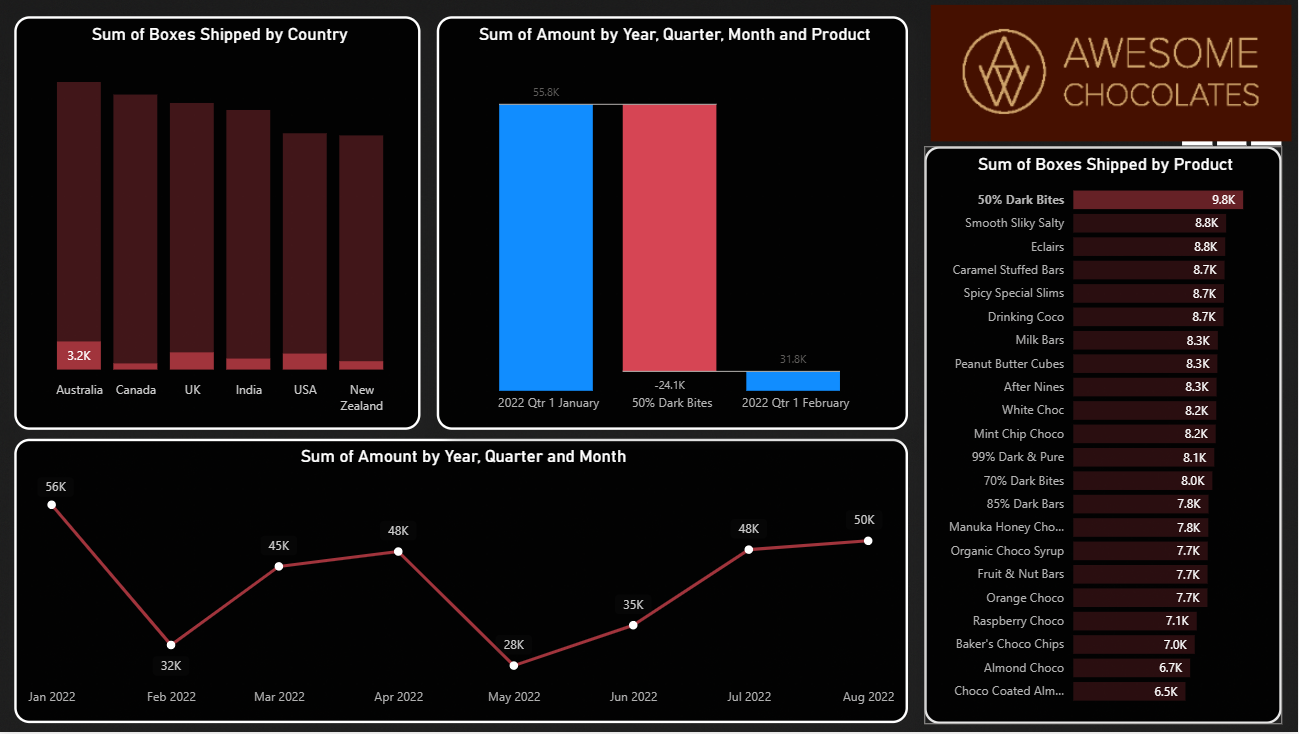

What the dashboard file says about the page in this screenshot:
{"tool":"powerbi","page":{"name":"Dashboard","canvas":[1280,720],"ordinal":0},"visuals":[{"type":"columnChart","fields":{"Category":["data.Country"],"Y":["Sum(data.Boxes Shipped)"]},"box":[16,16,400,407],"z":0},{"type":"barChart","fields":{"Category":["data.Product"],"Y":["Sum(data.Boxes Shipped)"]},"box":[912,144,352,569],"z":1},{"type":"lineChart","fields":{"Category":["data.Date.Variation.Date Hierarchy.Year","data.Date.Variation.Date Hierarchy.Quarter","data.Date.Variation.Date Hierarchy.Month","data.Date.Variation.Date Hierarchy.Day"],"Y":["Sum(data.Amount)"]},"box":[16,432,880,280],"z":2},{"type":"waterfallChart","fields":{"Category":["data.Date.Variation.Date Hierarchy.Year","data.Date.Variation.Date Hierarchy.Quarter","data.Date.Variation.Date Hierarchy.Month"],"Breakdown":["data.Product"],"Y":["Sum(data.Amount)"]},"box":[432,16,464,407],"z":3},{"type":"image","box":[912,0,368,144],"z":4}]}

Visuals, with their boxes in screenshot pixels (x1, y1, x2, y2), scaled from the page's 1280x720 canvas onto the 1299x734 screenshot:
columnChart - data.Country x Sum(data.Boxes Shipped): rect(16, 16, 422, 431)
barChart - data.Product x Sum(data.Boxes Shipped): rect(926, 147, 1283, 727)
lineChart - data.Date.Variation.Date Hierarchy.Year x data.Date.Variation.Date Hierarchy.Quarter: rect(16, 440, 909, 726)
waterfallChart - data.Date.Variation.Date Hierarchy.Year x data.Date.Variation.Date Hierarchy.Quarter: rect(438, 16, 909, 431)
image: rect(926, 0, 1298, 147)
